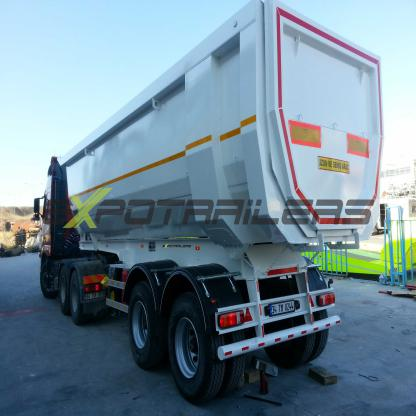normal-truck: (13, 0, 415, 395)
